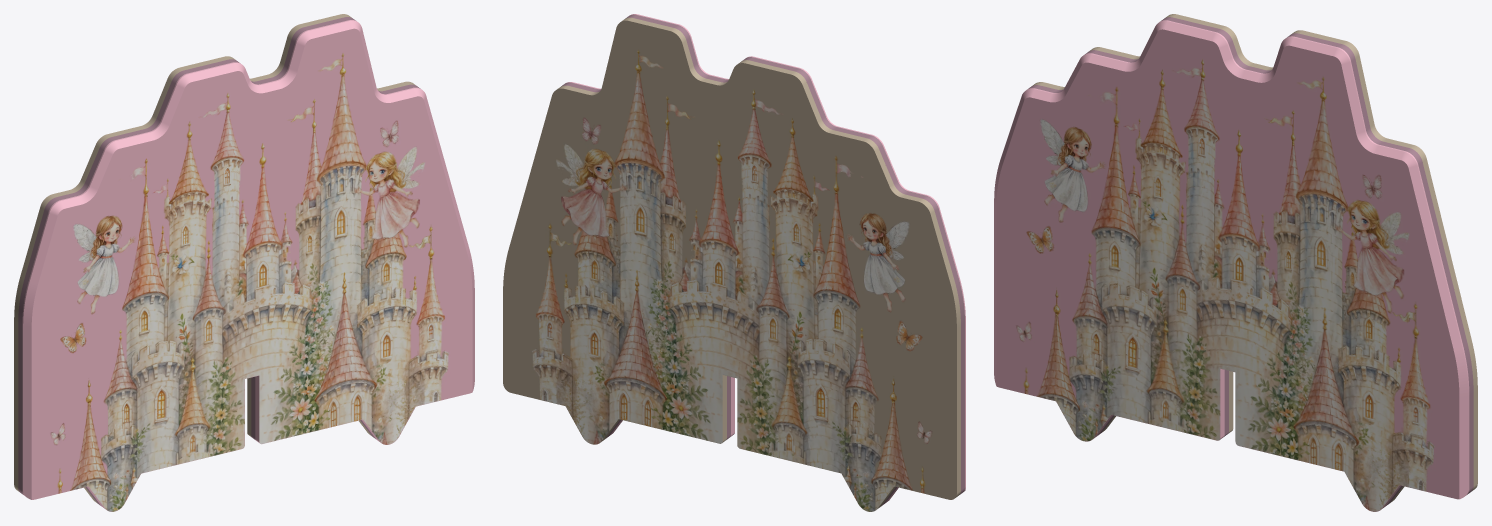
3 views of the same model, side by side, from view 1: azimuth 30°, elevation 25°; view 2: azimuth 150°, elevation 25°; view 3: azimuth 330°, elevation 25° (orthographic). The views are drawn at different scales.
Parts seen in each view (by area): view 1: p010; view 2: p010; view 3: p010.
Part boxes in pixels (x1=…): p010: x1=14, y1=14, x2=474, y2=511; p010: x1=503, y1=14, x2=965, y2=511; p010: x1=994, y1=14, x2=1477, y2=511.
Size of the model in its own units: 580 by 528 by 27.
Materials: 5 (2 with a texture image).
